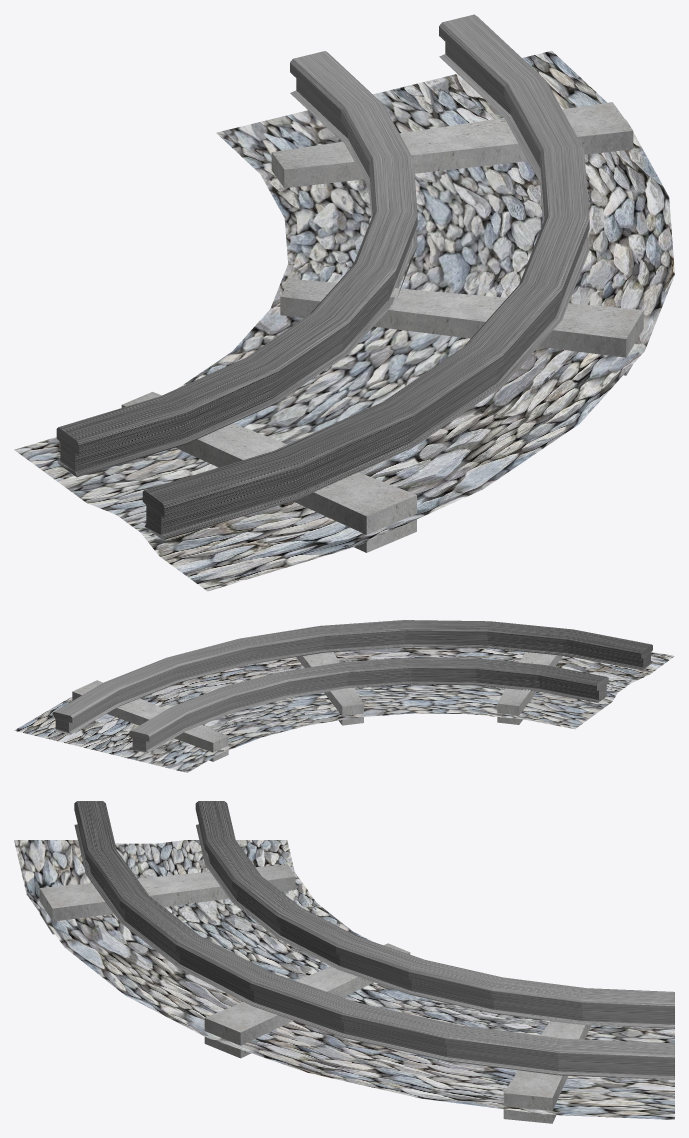
File: Train Rail.002.fbx
The picture shows the model from 3 angles, top to bottom: view 1: azimuth 30°, elevation 25°; view 2: azimuth 150°, elevation 25°; view 3: azimuth 270°, elevation 25°; orthographic projection. The views are drawn at different scales.
Parts seen in each view (by area): view 1: Train_Rail_002; view 2: Train_Rail_002; view 3: Train_Rail_002.
Boxes of the visible parts, <box> form: Train_Rail_002: <box>14,14,674,591</box>; Train_Rail_002: <box>14,620,674,772</box>; Train_Rail_002: <box>14,801,674,1123</box>.
Size of the model in its own units: 1723 by 148 by 1720.
Materials: 3 (3 with a texture image).
